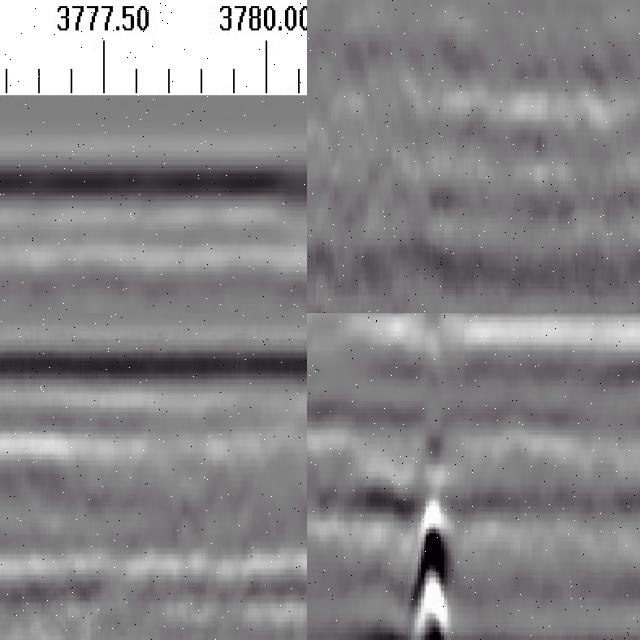crack: (403, 314, 453, 640)
